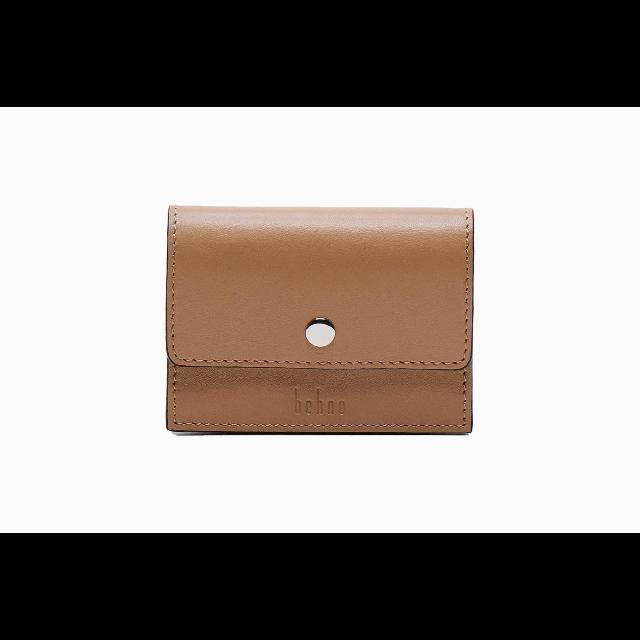wallet: (162, 200, 474, 438)
